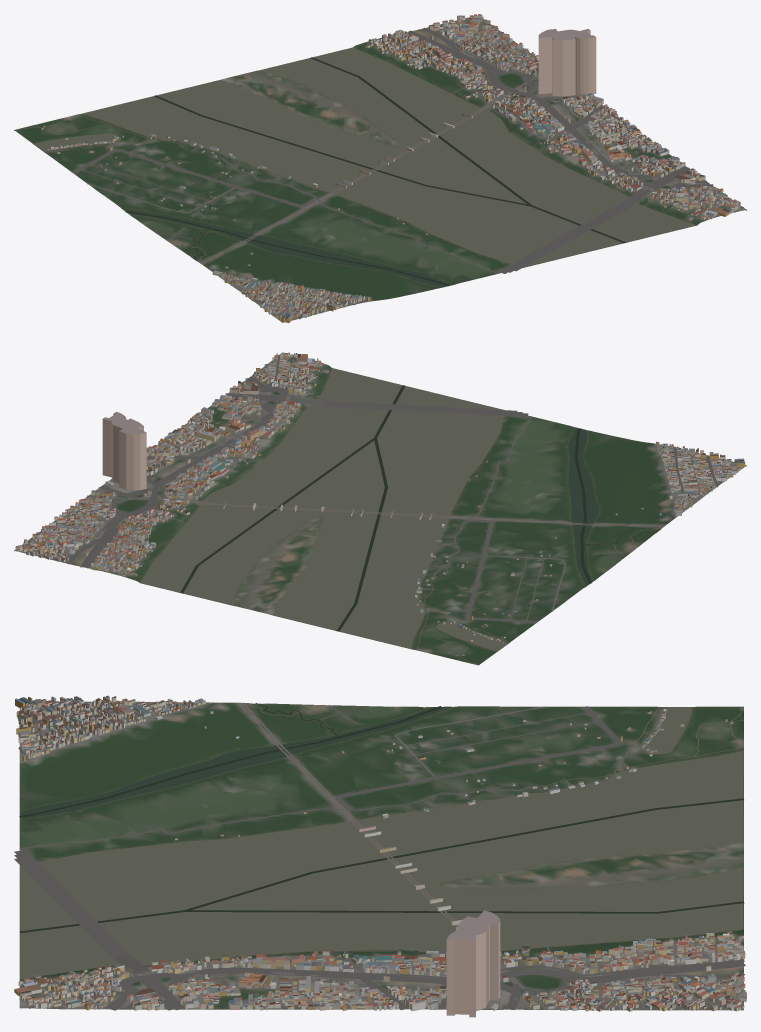
3 views of the same model, one above another, from view 1: azimuth 30°, elevation 25°; view 2: azimuth 150°, elevation 25°; view 3: azimuth 270°, elevation 25° (orthographic). The views are drawn at different scales.
Visible parts, largest first — view 1: water, ground, buildings, roads; view 2: water, ground, buildings, roads; view 3: water, ground, buildings, roads.
Part boxes in pixels (x1=…): water: x1=34, y1=47, x2=695, y2=286; ground: x1=14, y1=15, x2=746, y2=322; buildings: x1=41, y1=14, x2=740, y2=323; roads: x1=17, y1=17, x2=743, y2=319; water: x1=140, y1=368, x2=659, y2=651; ground: x1=14, y1=352, x2=746, y2=665; buildings: x1=15, y1=352, x2=745, y2=656; roads: x1=22, y1=354, x2=733, y2=664; water: x1=19, y1=703, x2=744, y2=979; ground: x1=19, y1=701, x2=743, y2=1010; buildings: x1=14, y1=695, x2=746, y2=1017; roads: x1=14, y1=701, x2=745, y2=1010.
Bounding box in the file's own units: 1440 × 171 × 1419.
